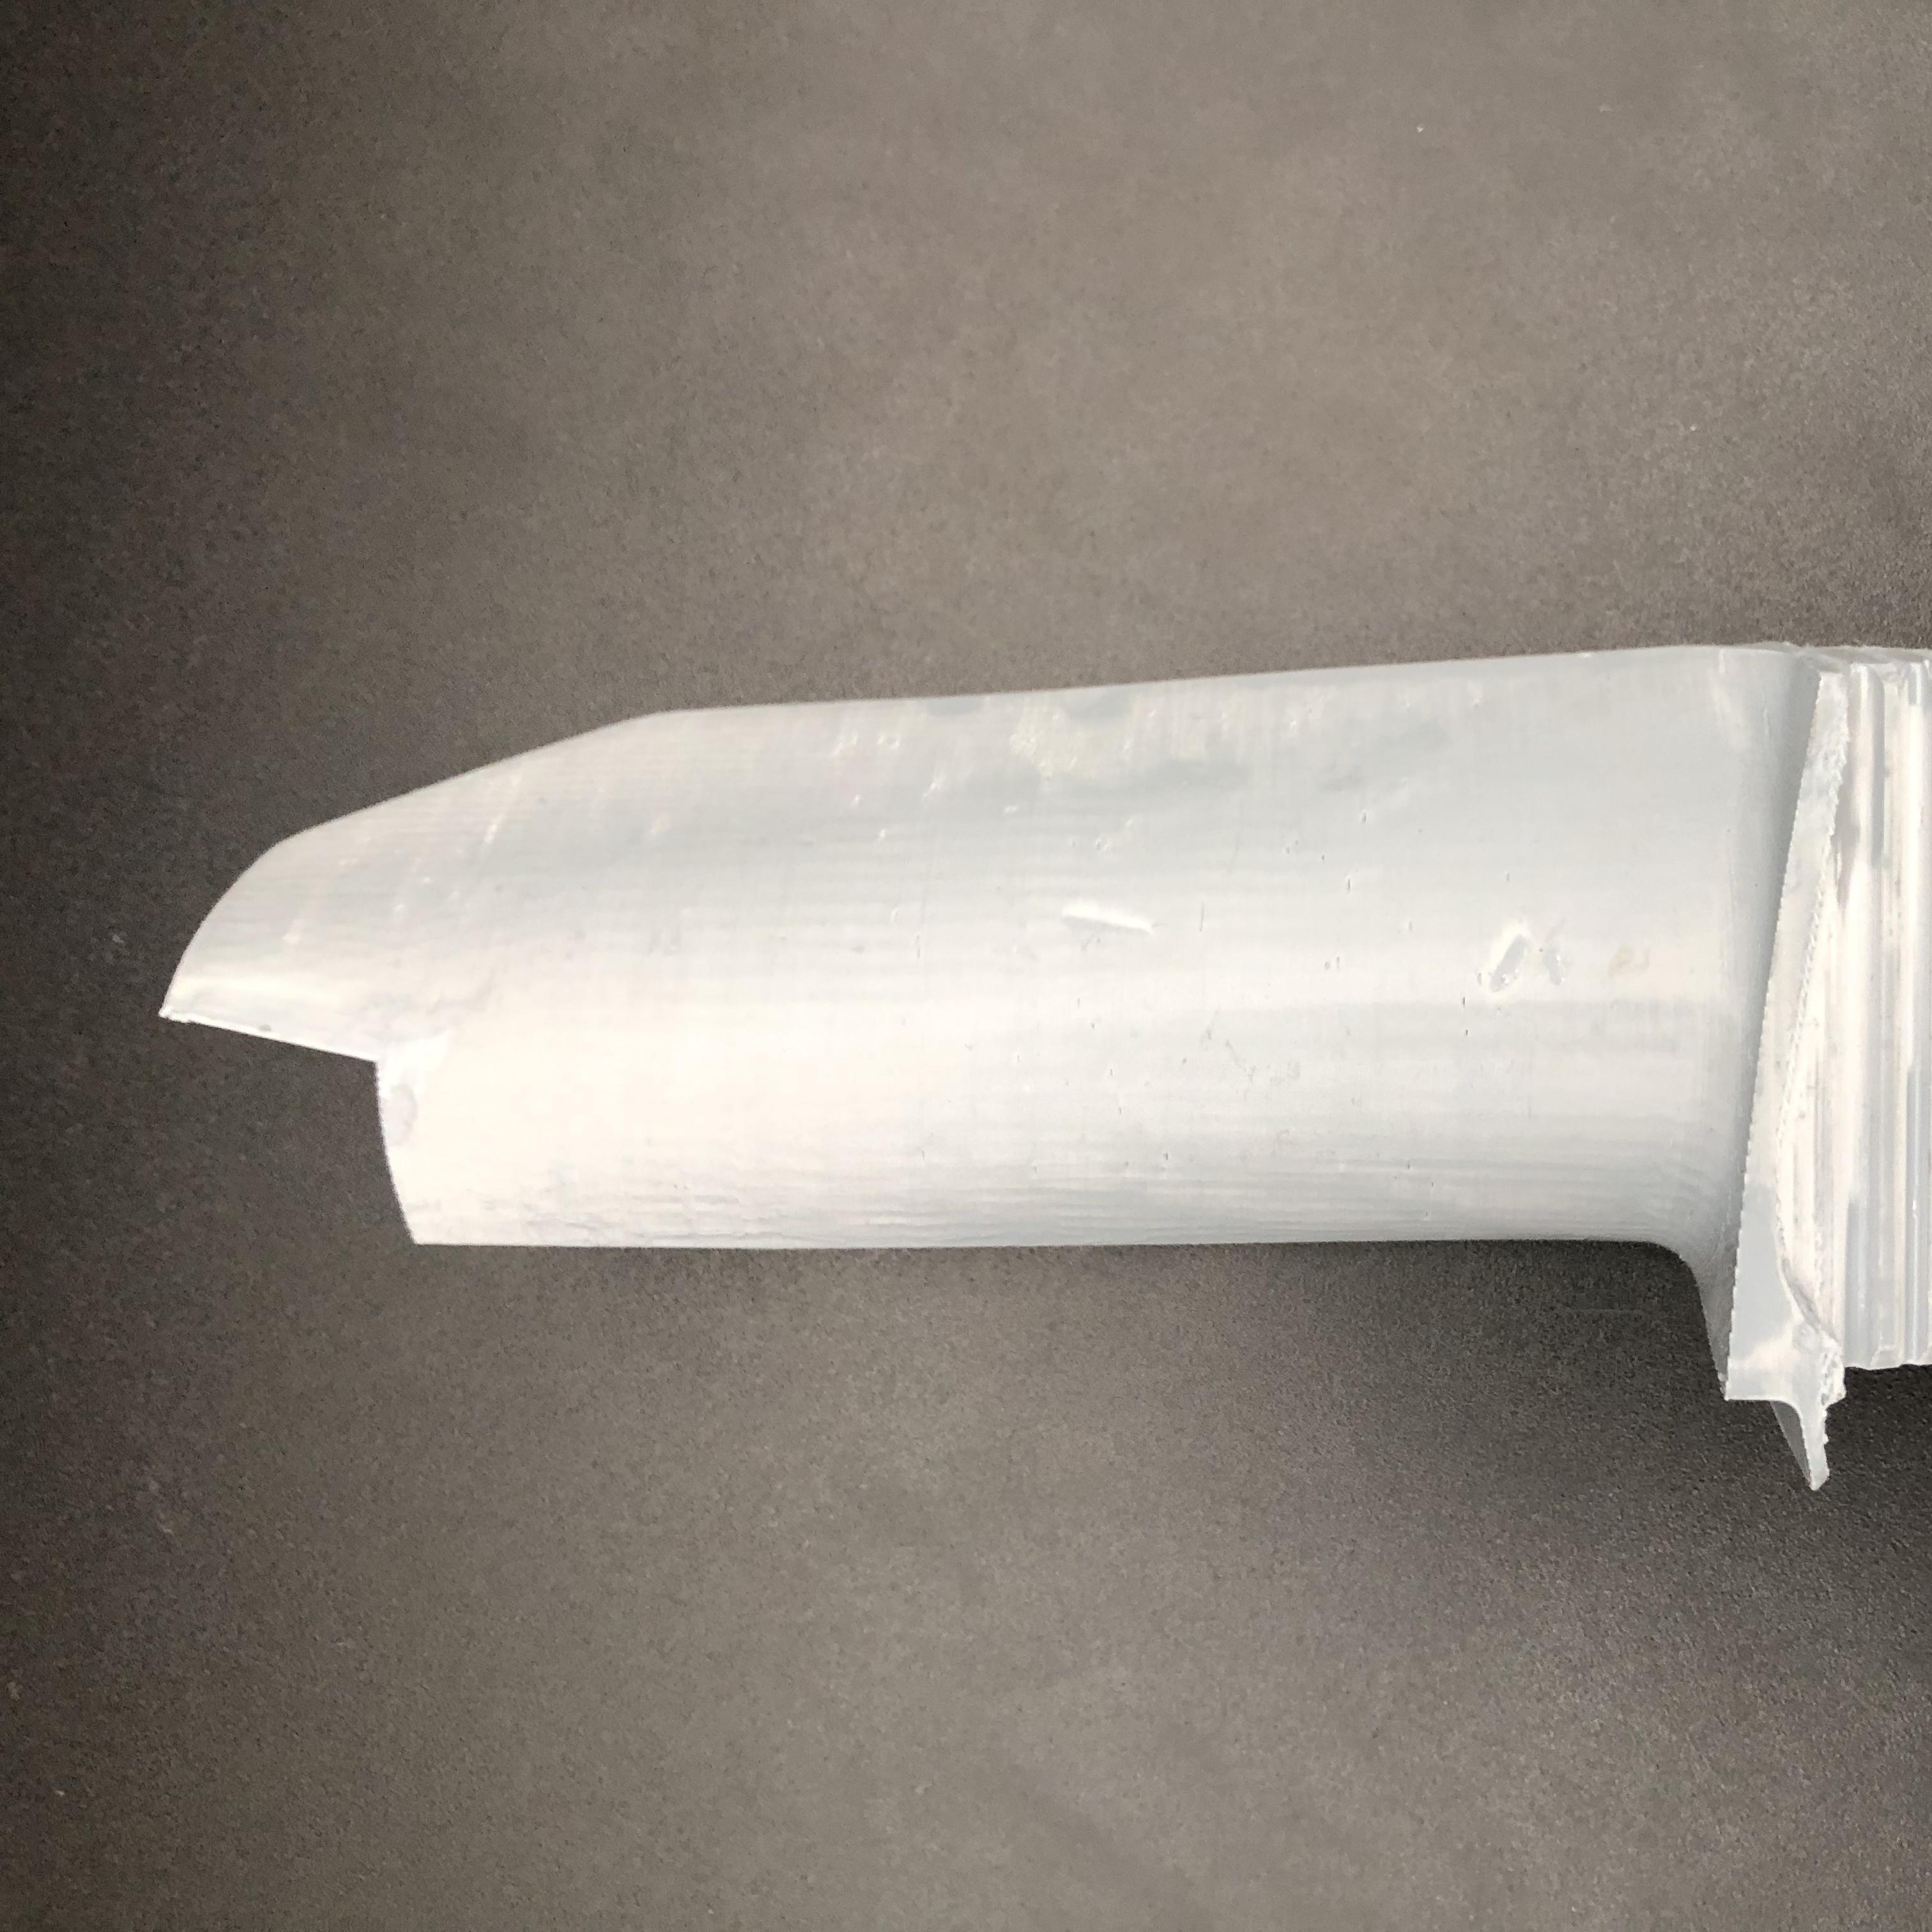fracture: (154, 1005, 456, 1247)
